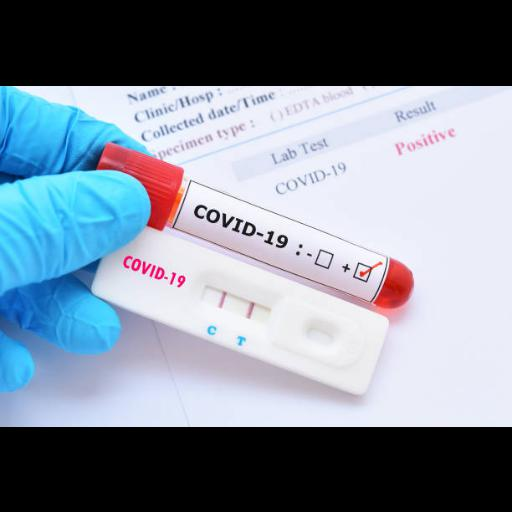Pos: (89, 217, 391, 396)
